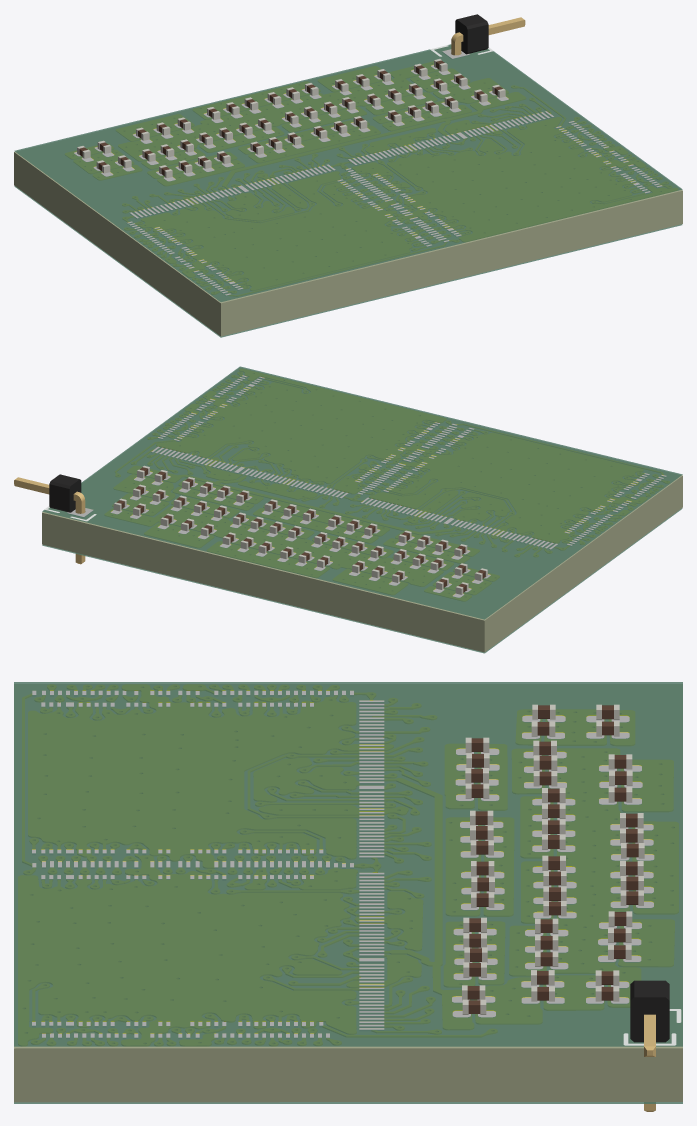
File: asic-pcb5-source.glb
The picture shows the model from 3 angles, top to bottom: view 1: azimuth 30°, elevation 25°; view 2: azimuth 150°, elevation 25°; view 3: azimuth 270°, elevation 25°; orthographic projection. The views are drawn at different scales.
Visible parts, largest first — view 1: =>[0:1:1:11], =>[0:1:1:6], =>[0:1:1:13], =>[0:1:1:7], =>[0:1:1:5], =>[0:1:1:12], =>[0:1:1:8]; view 2: =>[0:1:1:11], =>[0:1:1:6], =>[0:1:1:13], =>[0:1:1:7], =>[0:1:1:5], =>[0:1:1:12], =>[0:1:1:8]; view 3: =>[0:1:1:11], =>[0:1:1:6], =>[0:1:1:13], =>[0:1:1:7], =>[0:1:1:5], =>[0:1:1:8], =>[0:1:1:12].
Part boxes in pixels (box(x1,y1,x2,y2)): =>[0:1:1:11]: box(14, 44, 682, 301); =>[0:1:1:6]: box(65, 62, 677, 296); =>[0:1:1:13]: box(14, 46, 682, 336); =>[0:1:1:7]: box(74, 49, 662, 295); =>[0:1:1:5]: box(451, 14, 525, 55); =>[0:1:1:12]: box(14, 186, 682, 337); =>[0:1:1:8]: box(72, 63, 670, 291); =>[0:1:1:11]: box(42, 366, 682, 619); =>[0:1:1:6]: box(105, 369, 669, 600); =>[0:1:1:13]: box(42, 368, 682, 652); =>[0:1:1:7]: box(67, 375, 666, 597); =>[0:1:1:5]: box(14, 474, 85, 564); =>[0:1:1:12]: box(42, 508, 682, 653); =>[0:1:1:8]: box(111, 373, 667, 593); =>[0:1:1:11]: box(14, 682, 682, 1046); =>[0:1:1:6]: box(18, 685, 678, 1045); =>[0:1:1:13]: box(14, 684, 682, 1102); =>[0:1:1:7]: box(32, 691, 654, 1038); =>[0:1:1:5]: box(630, 980, 669, 1111); =>[0:1:1:8]: box(22, 686, 674, 1043); =>[0:1:1:12]: box(14, 1102, 682, 1103).
Size of the model in its own units: 0.0238 by 0.00377 by 0.017.
